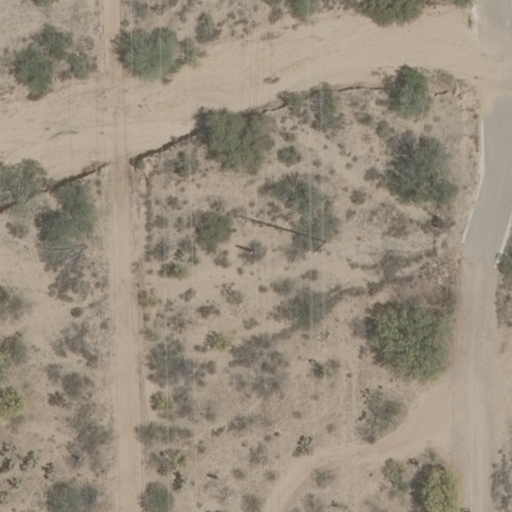DT: (308, 232, 343, 257)
